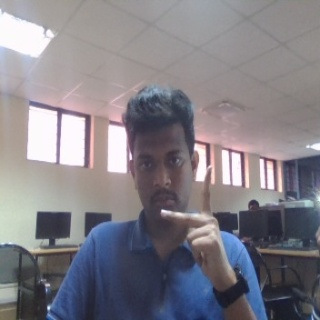Okay: (157, 163, 230, 286)
